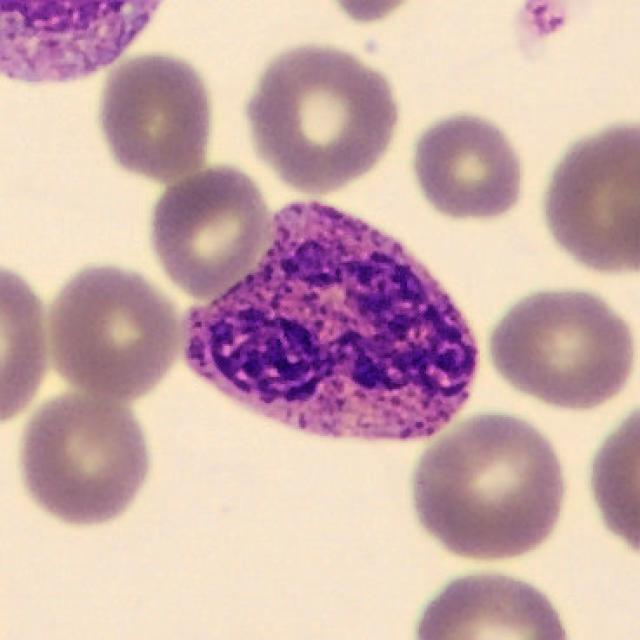Neutrofilo segmentado: (183, 204, 478, 441)
